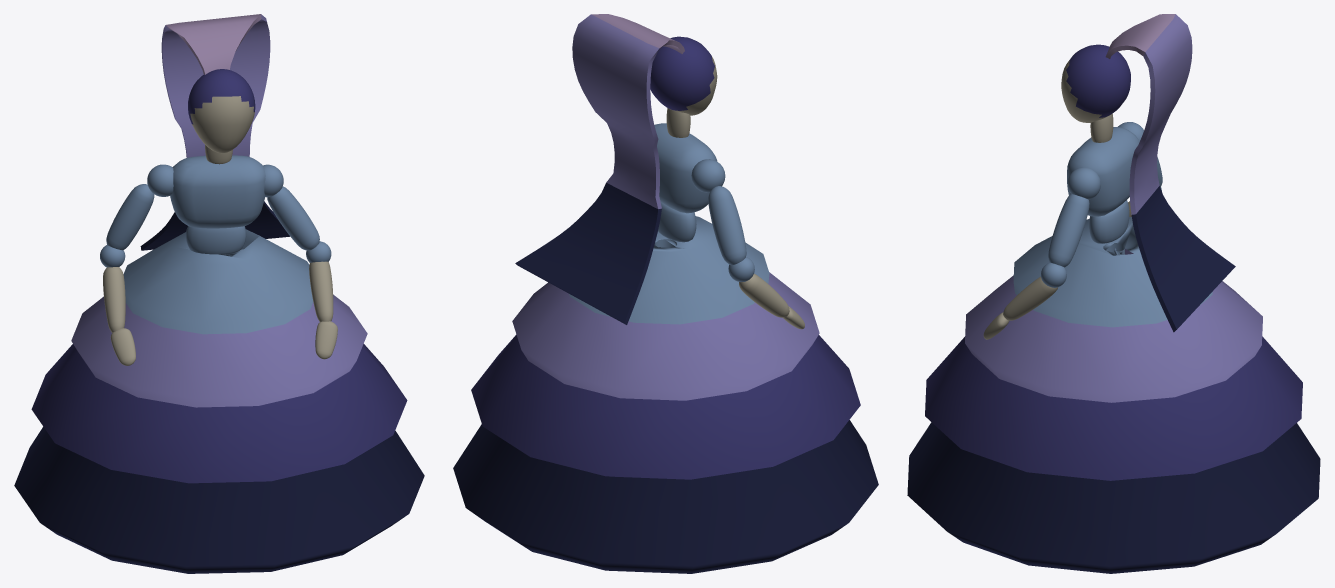
The model's file is charm.fbx.
3 views of the same model, side by side, from view 1: azimuth 30°, elevation 25°; view 2: azimuth 150°, elevation 25°; view 3: azimuth 270°, elevation 25° (orthographic). The views are drawn at different scales.
Visible parts, largest first — view 1: nurbsToPoly13, nurbsToPoly14, polySurface33, maya_human_figure:pSphere1, polySurface31, polySurface35, figure___bigger_feet_for_print1:polySurface10, polySurface37, polySurface28, polySurface32, polySurface29, polySurface38 (+1 smaller); view 2: nurbsToPoly13, nurbsToPoly14, maya_human_figure:pSphere1, polySurface33, polySurface31, polySurface37, figure___bigger_feet_for_print1:polySurface10, polySurface32, figure___bigger_feet_for_print1:polySurface8; view 3: nurbsToPoly13, nurbsToPoly14, maya_human_figure:pSphere1, polySurface33, polySurface35, figure___bigger_feet_for_print1:polySurface10, polySurface28, polySurface34, figure___bigger_feet_for_print1:polySurface8, polySurface36.
Boxes of the visible parts, box(x1,y1,x2,y2) form: nurbsToPoly13: box(14, 229, 424, 573); nurbsToPoly14: box(140, 14, 289, 250); polySurface33: box(170, 155, 265, 228); maya_human_figure:pSphere1: box(188, 69, 255, 153); polySurface31: box(106, 184, 154, 250); polySurface35: box(267, 186, 319, 250); figure___bigger_feet_for_print1:polySurface10: box(185, 226, 246, 255); polySurface37: box(103, 267, 125, 332); polySurface28: box(309, 261, 333, 321); polySurface32: box(147, 164, 173, 196); polySurface29: box(315, 321, 337, 359); polySurface38: box(110, 328, 135, 365); nurbsToPoly13: box(453, 216, 878, 573); nurbsToPoly14: box(515, 14, 684, 324); maya_human_figure:pSphere1: box(650, 36, 717, 115); polySurface33: box(654, 123, 717, 213); polySurface31: box(708, 186, 746, 265); polySurface37: box(739, 273, 789, 317); figure___bigger_feet_for_print1:polySurface10: box(658, 202, 696, 242); polySurface32: box(691, 159, 725, 192); figure___bigger_feet_for_print1:polySurface8: box(666, 108, 690, 137); nurbsToPoly13: box(907, 217, 1320, 573); nurbsToPoly14: box(1105, 14, 1235, 332); maya_human_figure:pSphere1: box(1061, 44, 1130, 122); polySurface33: box(1067, 127, 1139, 216); polySurface35: box(1048, 194, 1089, 267); figure___bigger_feet_for_print1:polySurface10: box(1089, 200, 1129, 243); polySurface28: box(1003, 276, 1057, 320); polySurface34: box(1067, 167, 1100, 199); figure___bigger_feet_for_print1:polySurface8: box(1090, 113, 1113, 142); polySurface36: box(1041, 262, 1066, 287).
Bounding box in the file's own units: 17.06 × 20.97 × 16.71.
